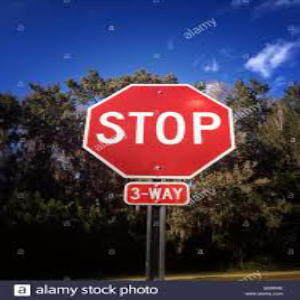STOP_SIGN: (81, 84, 236, 179)
